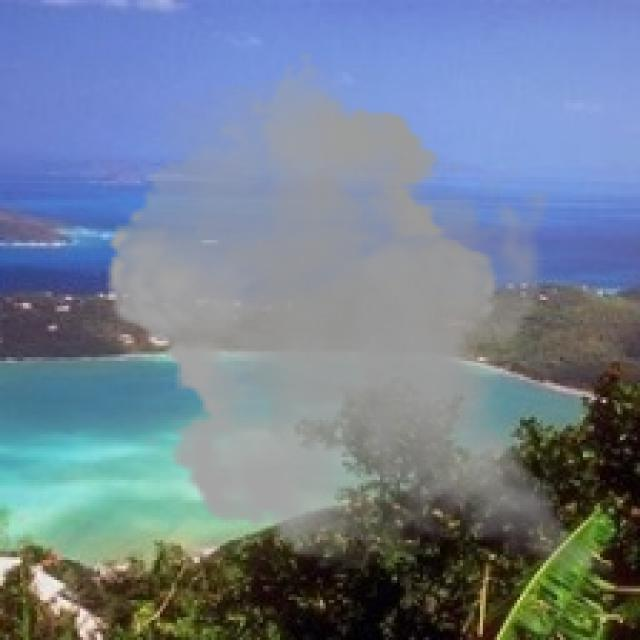Smoke: (92, 49, 638, 588)
